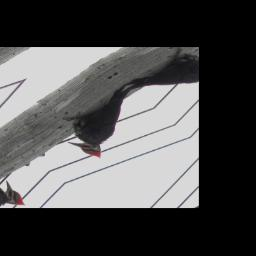Woodpecker: (47, 82, 166, 164)
